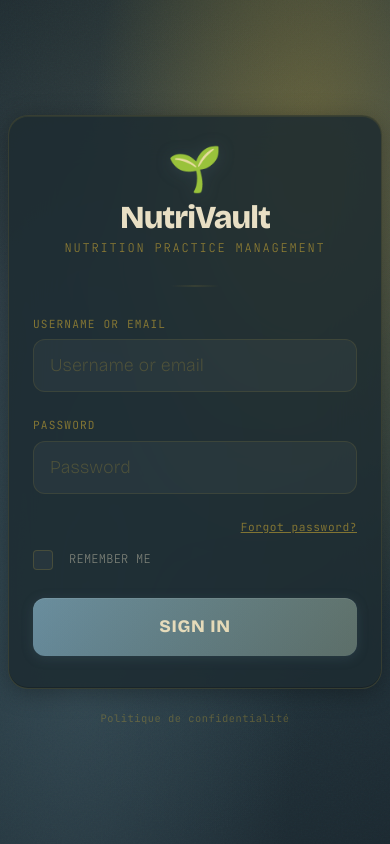
Test: LoginPage › Form Validation › should show error when submitting empty form
Click the button "Sign In". click: {"x": 195, "y": 627}
box: 33,598 -> 357,656
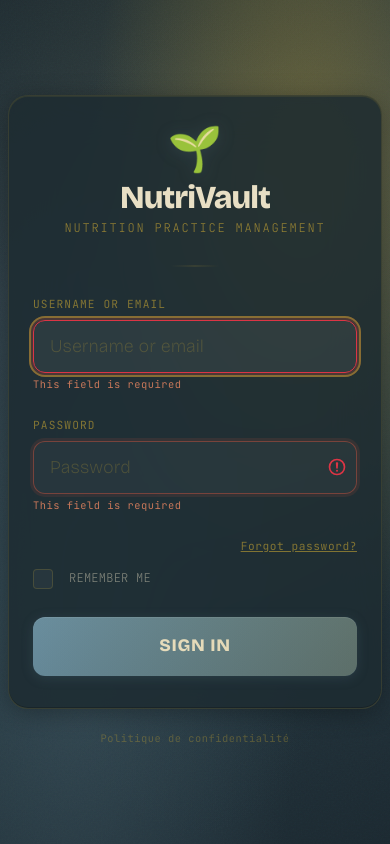
expect the text "This field is required" below "Username or email" is shown: met, box 33,377 -> 182,391
